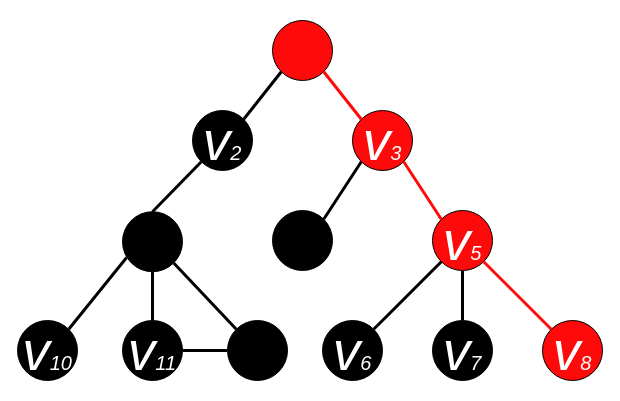
Image size: 620x401. Some labels were removed from this diagram. The centre of each missing label's shape, as x and y in pixels:
"v 1" goes at pixel 302 50.
"v 12" goes at pixel 257 350.
"v 4" goes at pixel 302 240.
"v 9" goes at pixel 152 241.
